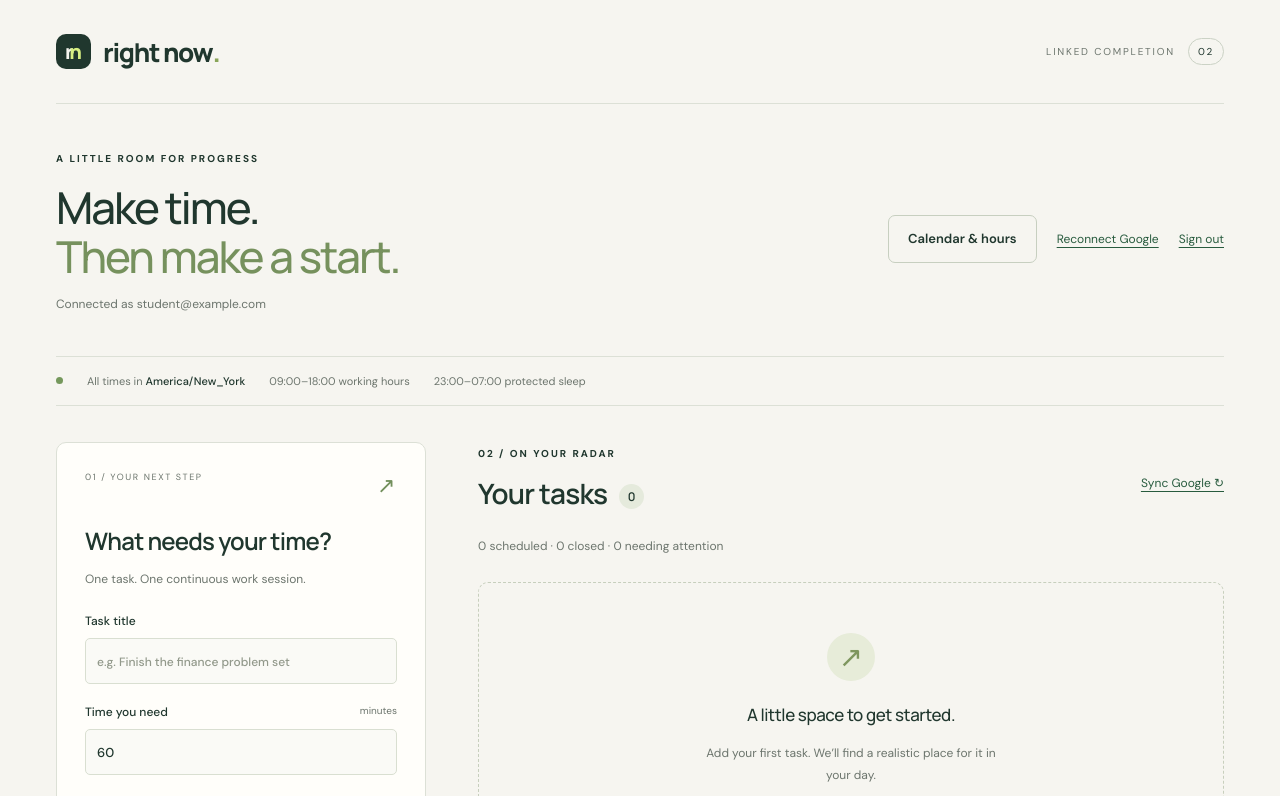
Test case: Signed-in structured task form › submits a blank optional deadline as null and displays No deadline
This screenshot has width=1280, height=796.
Type "Finance" into the field labelled "Task title" at (241, 661), box 85,638 -> 397,684
(page scrolled)
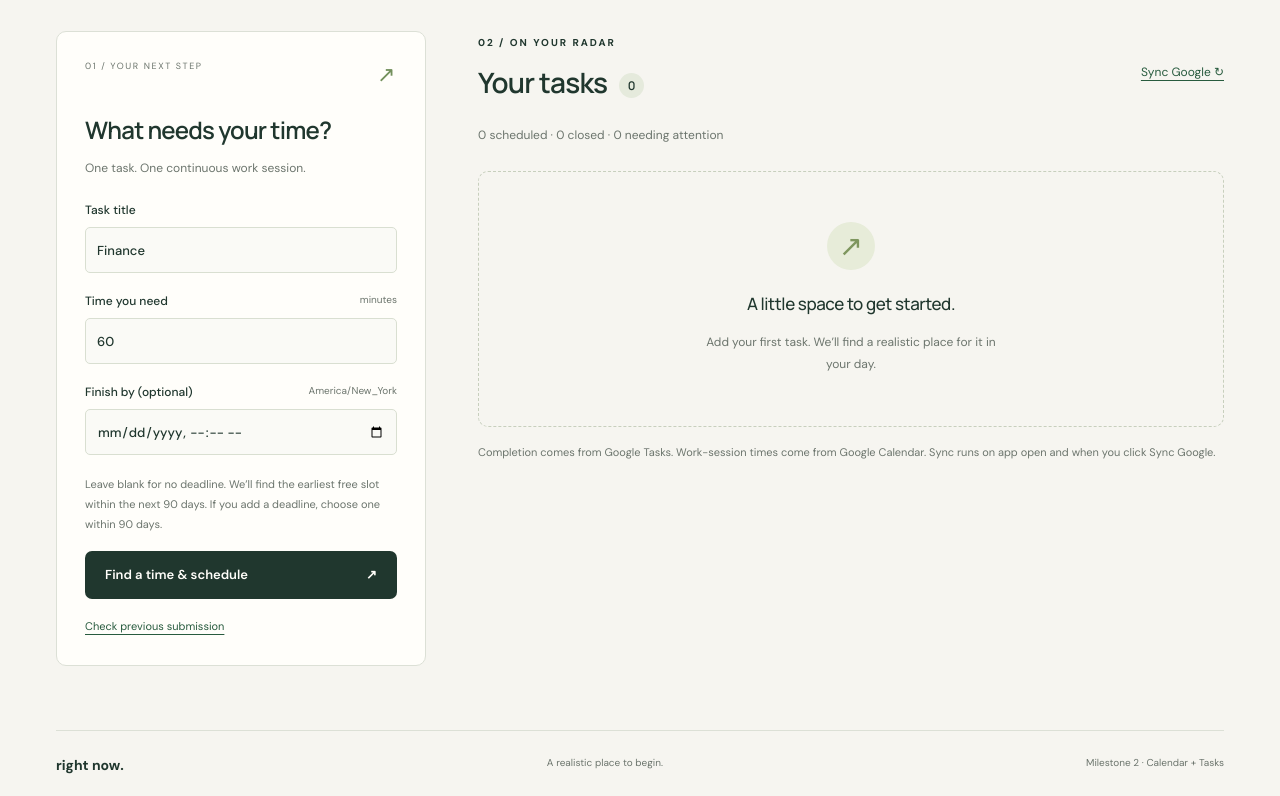
Submit the form named "Find a time", box 85,202 -> 397,599
(page scrolled)
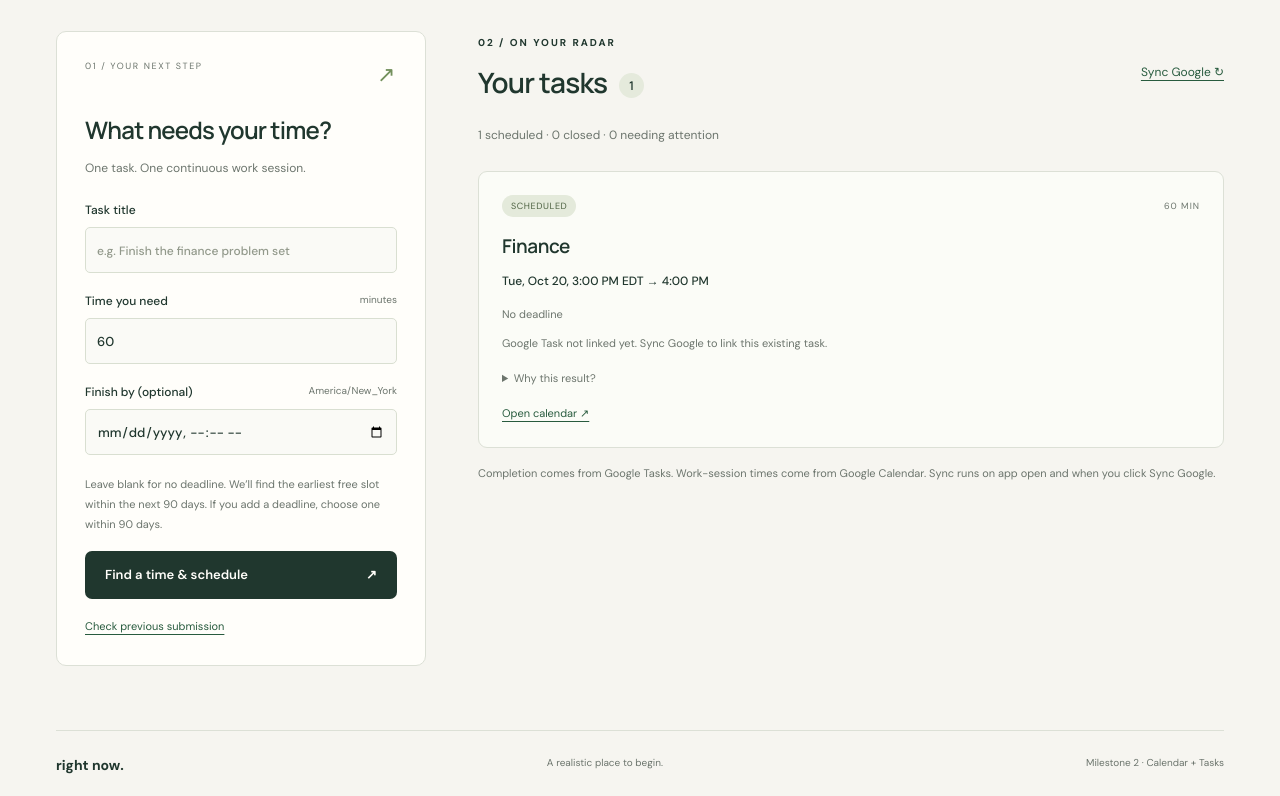
Check: the text "No deadline" is shown, box 502,307 -> 563,321
